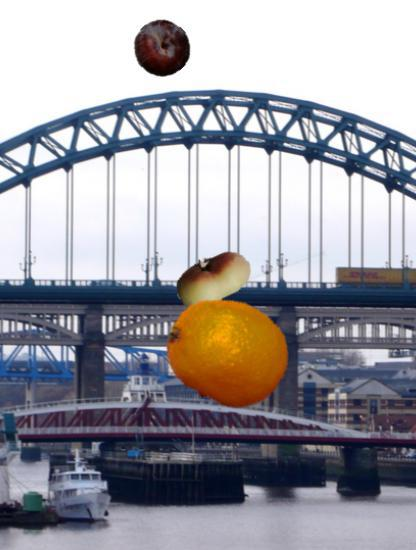Lemon: (165, 290, 290, 415)
Peach: (174, 240, 253, 319)
Plum: (133, 20, 191, 78)
